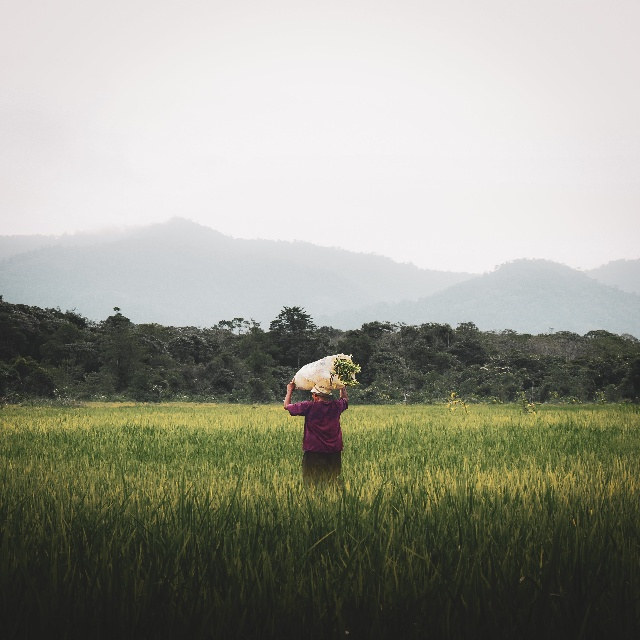Sin_guantes: (287, 378, 294, 393)
